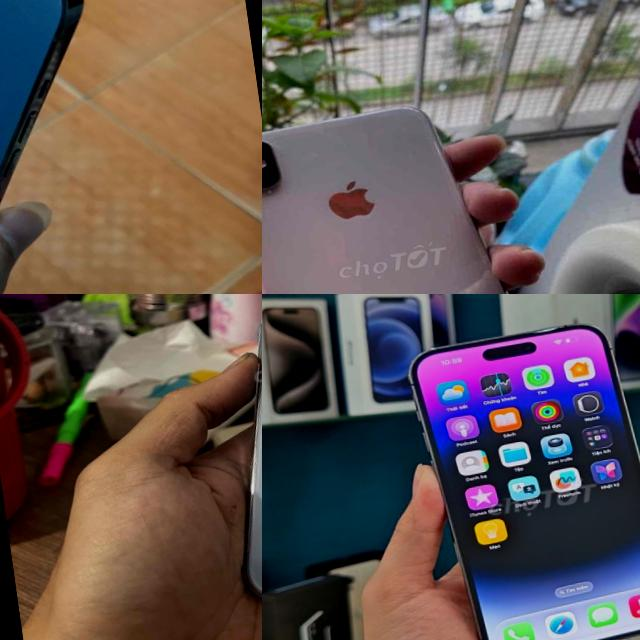gen_12_13: (0, 0, 127, 294), (194, 294, 262, 636)
gen_14: (402, 305, 640, 640)
gen_x_xs: (262, 73, 578, 294)
